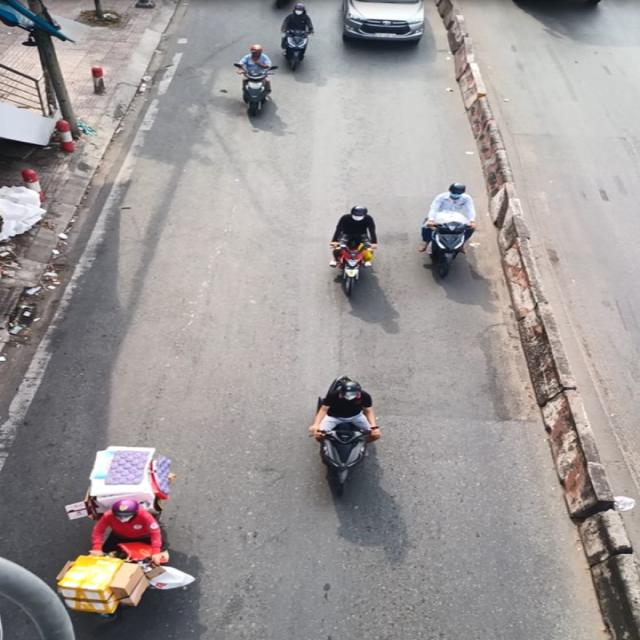motor: (284, 372, 380, 496), (316, 198, 387, 296), (421, 178, 491, 276)
